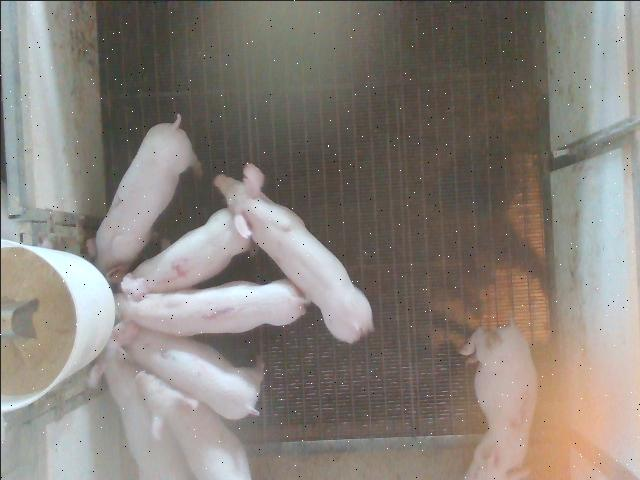pig-1: (111, 274, 306, 344)
pig-3: (460, 321, 536, 478)
pig-4: (130, 209, 249, 291)
